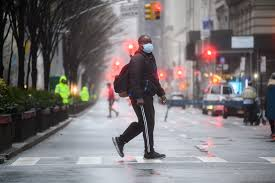mask: (143, 43, 153, 53)
